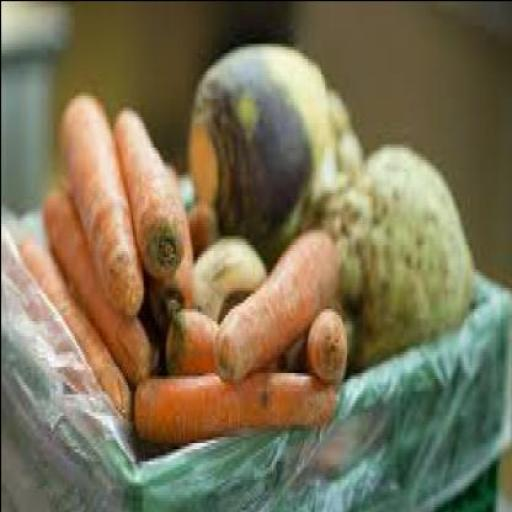biodegradable: (338, 138, 476, 362), (188, 39, 332, 244), (44, 182, 158, 384), (60, 91, 150, 311), (217, 225, 339, 378), (27, 238, 131, 414), (134, 363, 340, 451), (114, 104, 184, 278), (167, 298, 282, 381), (151, 150, 195, 332), (194, 237, 269, 314), (282, 144, 341, 238), (310, 298, 350, 381), (325, 85, 354, 134), (336, 126, 368, 168), (190, 198, 217, 244)
